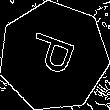P_E: (24, 31, 84, 82)
